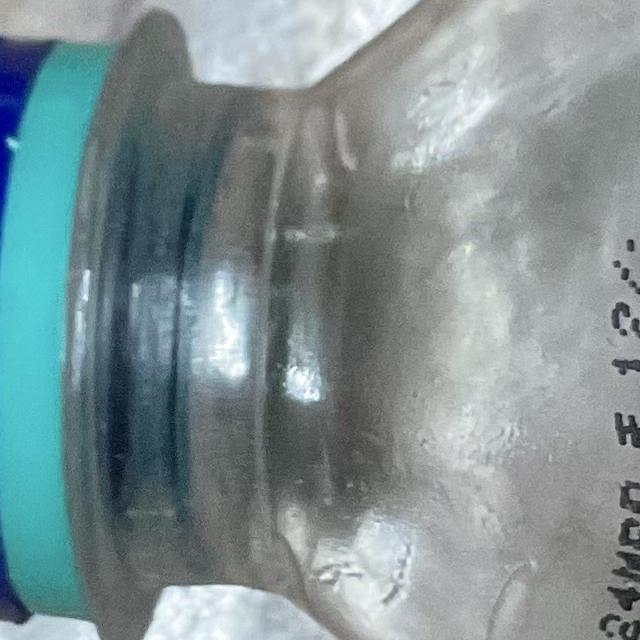Good-cap-Df0S: (0, 13, 155, 640)
